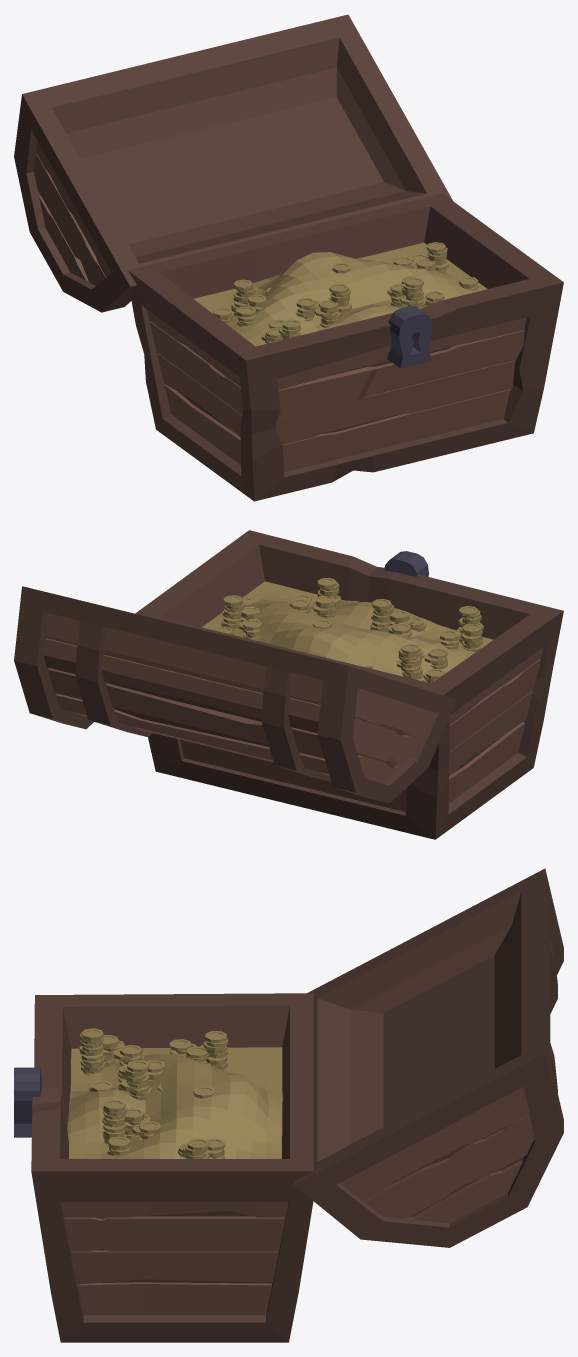
Rendered from Chest_Gold.glb.
3 renders of one model, top to bottom at view 1: azimuth 30°, elevation 25°; view 2: azimuth 150°, elevation 25°; view 3: azimuth 270°, elevation 25°, orthographic. The views are drawn at different scales.
Visible parts, largest first — view 1: Chest_Gold; view 2: Chest_Gold; view 3: Chest_Gold.
Part boxes in pixels (x1,y1,x2,y2): Chest_Gold: [14, 14, 563, 501]; Chest_Gold: [14, 530, 563, 839]; Chest_Gold: [14, 868, 563, 1342].
Bounding box in the file's own units: 0.4953 × 0.3778 × 0.6225.
